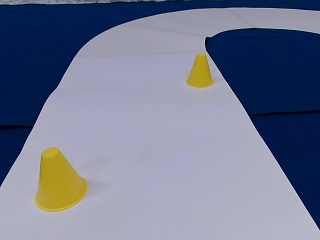cone: (35, 148, 88, 210), (186, 54, 213, 87)
